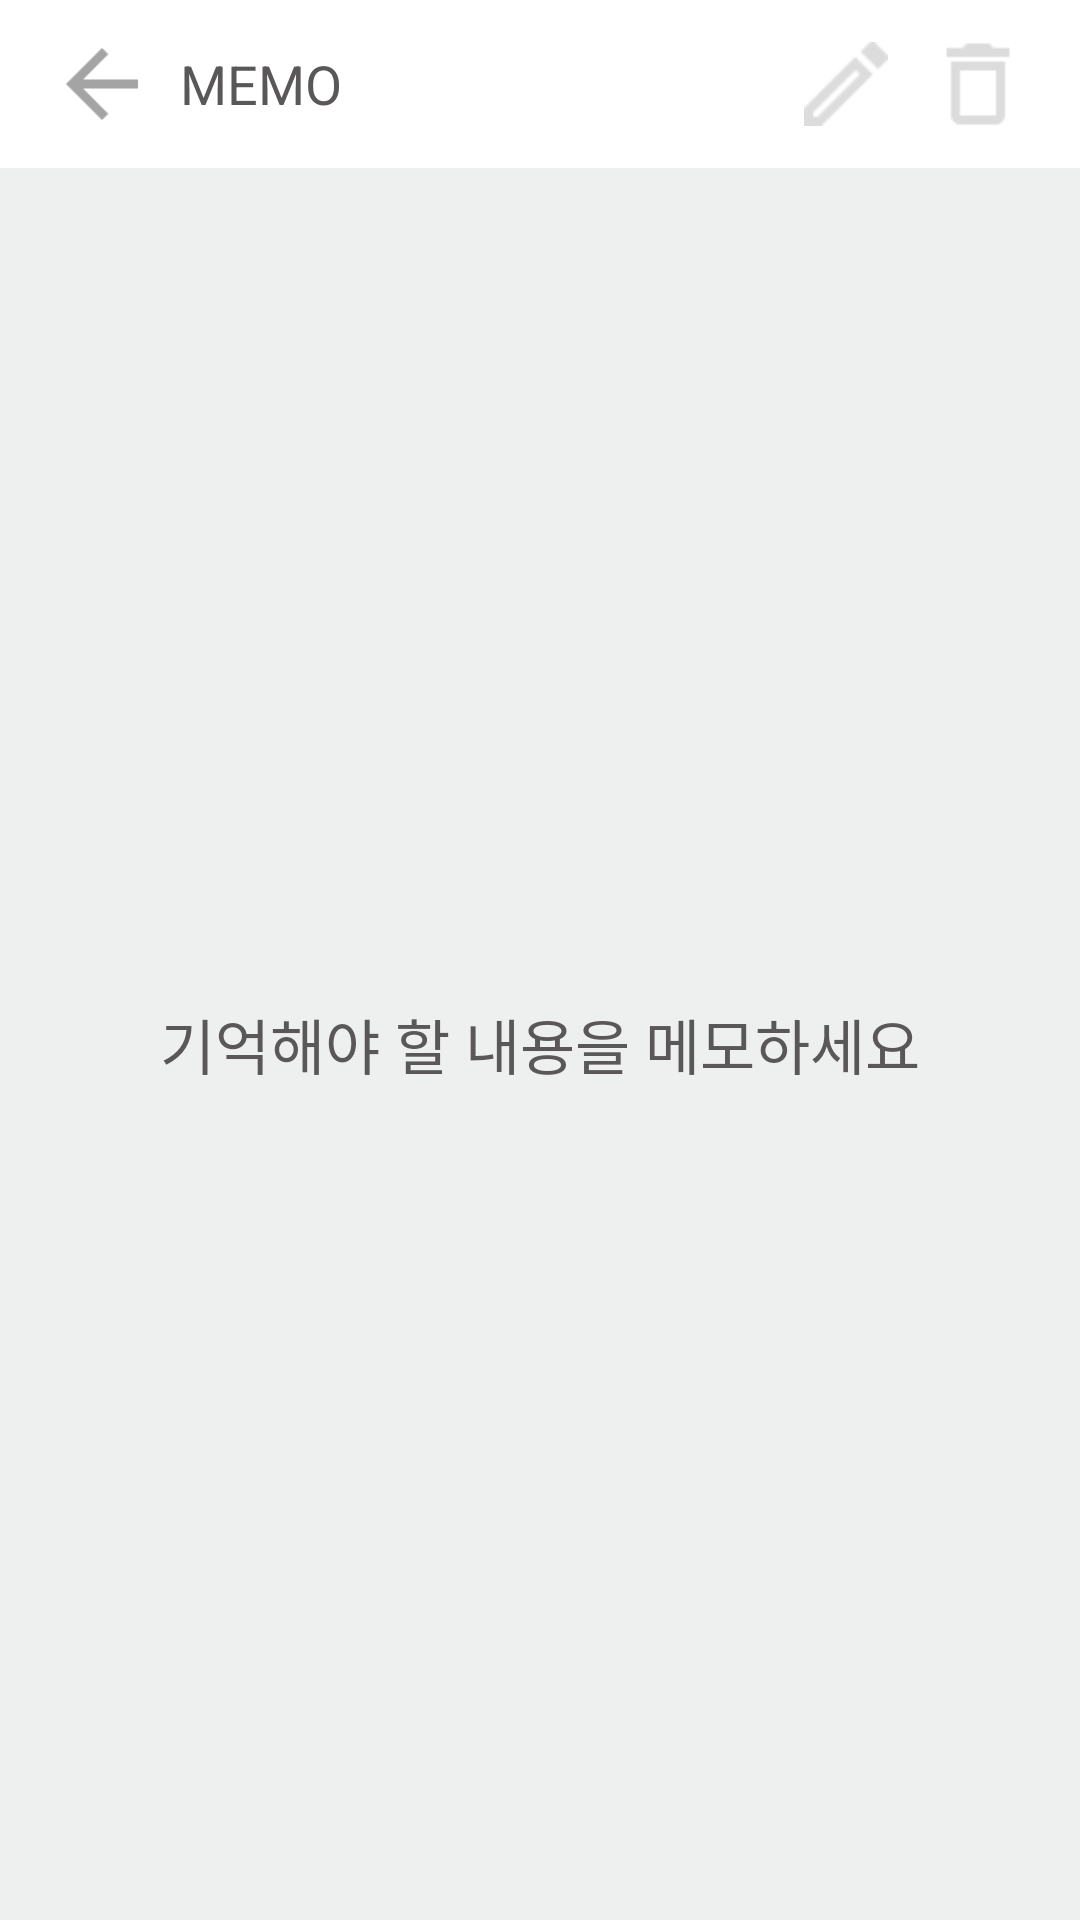

Icon bounding boxes for this 1080w x 1920h phone screenshot, format (x1, y1, x2, y2):
arrow back: (66, 48, 138, 120)
memo add: (804, 42, 888, 126)
memo delete: (947, 44, 1009, 124)
